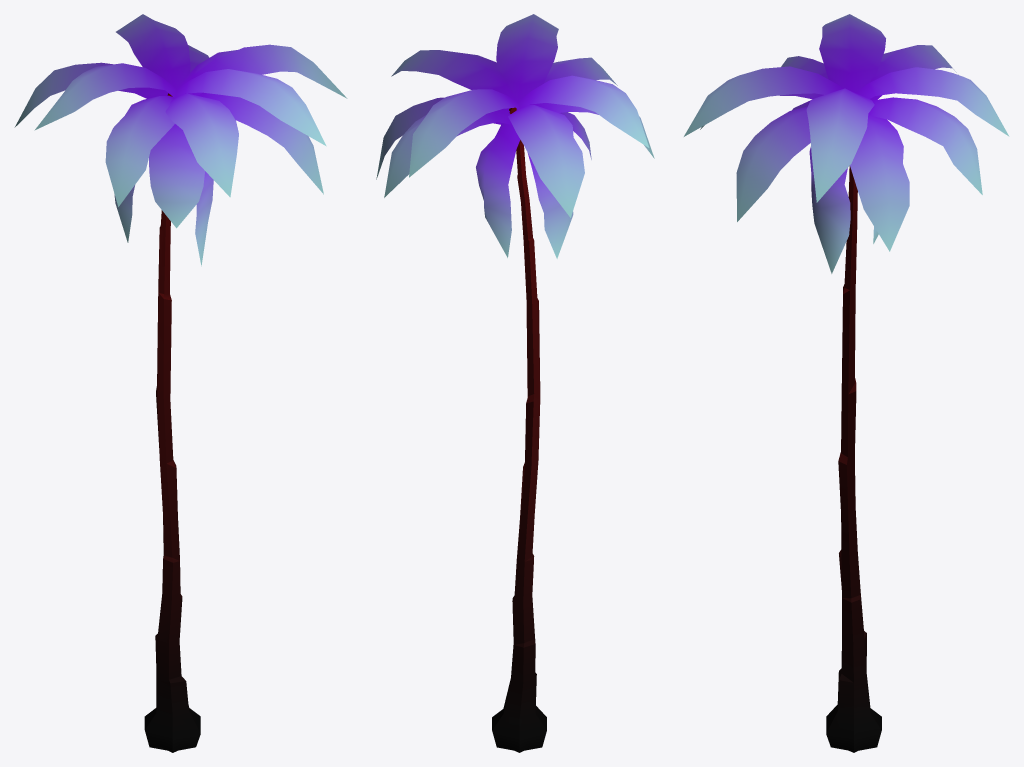
The model's file is SM_Env_Tree_Palm_03.gltf.
3 views of the same model, side by side, from view 1: azimuth 30°, elevation 25°; view 2: azimuth 150°, elevation 25°; view 3: azimuth 270°, elevation 25° (orthographic). The views are drawn at different scales.
Parts seen in each view (by area): view 1: SM_Env_Tree_Palm_03_LOD0; view 2: SM_Env_Tree_Palm_03_LOD0; view 3: SM_Env_Tree_Palm_03_LOD0.
Boxes of the visible parts, x1=… form: SM_Env_Tree_Palm_03_LOD0: x1=14, y1=14, x2=347, y2=752; SM_Env_Tree_Palm_03_LOD0: x1=376, y1=14, x2=654, y2=752; SM_Env_Tree_Palm_03_LOD0: x1=684, y1=14, x2=1009, y2=752.
Bounding box in the file's own units: 5.2 × 11.96 × 5.06.
